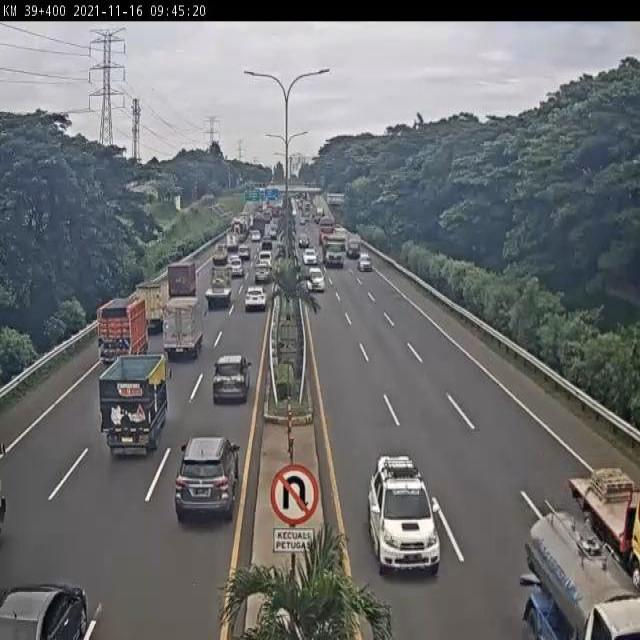car: (367, 456, 439, 572), (175, 436, 240, 519), (213, 354, 252, 402), (245, 285, 267, 312), (306, 263, 323, 289), (234, 245, 253, 268), (228, 259, 245, 280), (253, 267, 268, 285)
small bus: (257, 253, 274, 270)
small truck: (514, 512, 640, 640), (163, 295, 205, 361), (129, 286, 165, 334), (212, 242, 229, 266)
truck-m-: (99, 356, 169, 456), (98, 300, 146, 365), (167, 263, 196, 304), (206, 271, 234, 308)
